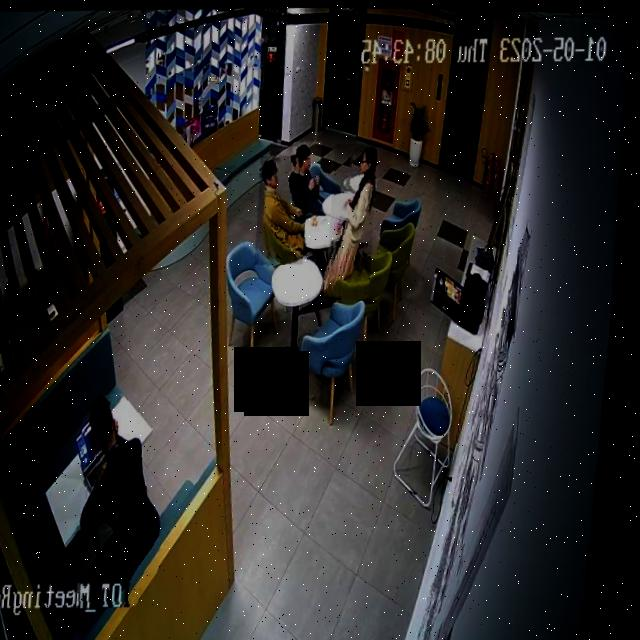person: (76, 390, 184, 609), (325, 141, 386, 298), (255, 152, 315, 264), (0, 275, 47, 365), (290, 139, 327, 215)
